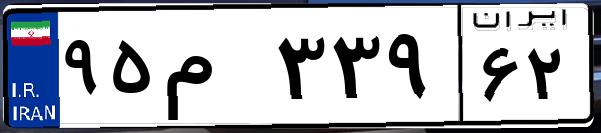2: (525, 38, 570, 115)
3: (270, 28, 330, 110), (330, 28, 385, 110)
5: (110, 28, 158, 98)
6: (475, 38, 525, 113)
9: (385, 28, 445, 110), (57, 26, 110, 100)
م: (158, 20, 270, 120)
